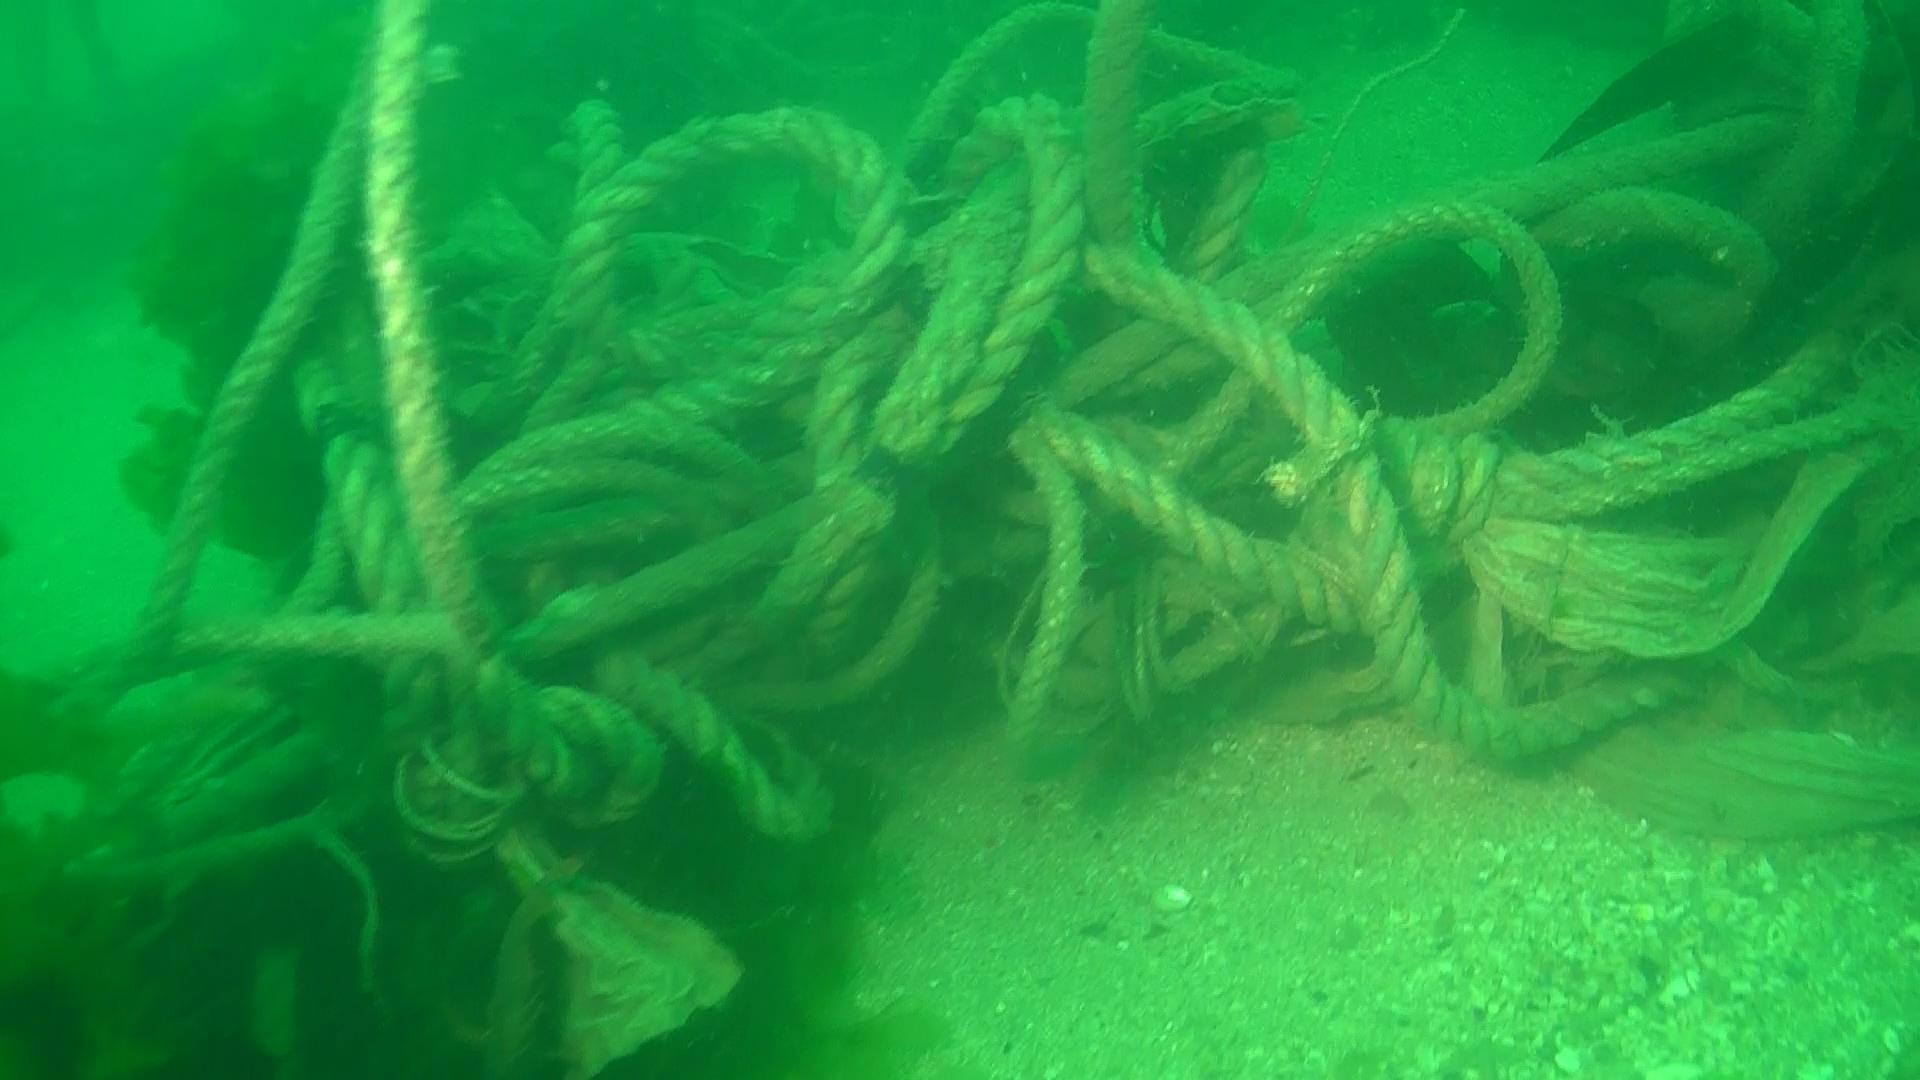bundle of ropes: (32, 0, 1920, 837)
